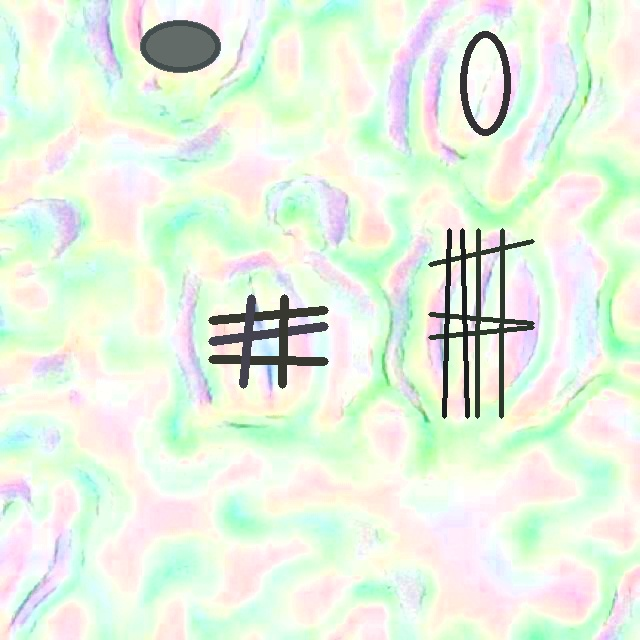close: (208, 295, 328, 388), (459, 30, 511, 136), (139, 21, 221, 72)
open: (429, 229, 533, 418)
